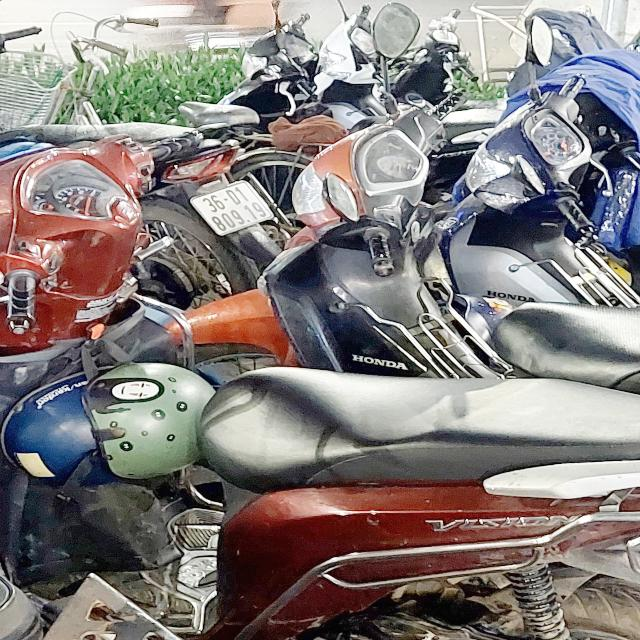license_plate: (189, 180, 277, 238)
